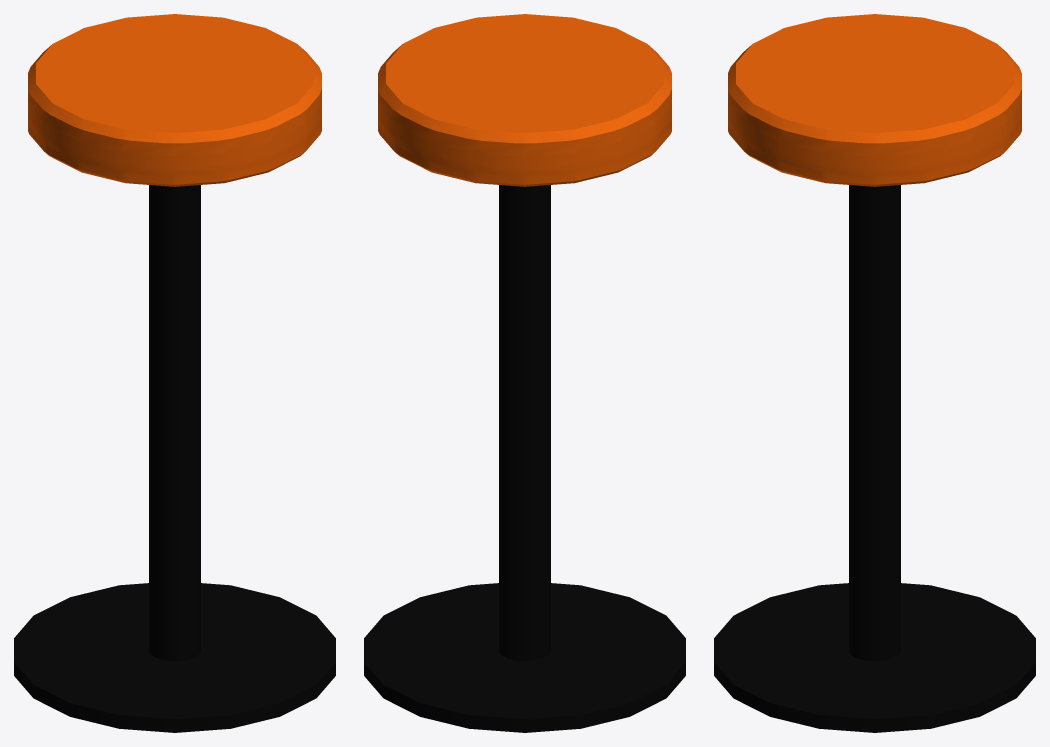
File: stool.obj
3 views of the same model, side by side, from view 1: azimuth 30°, elevation 25°; view 2: azimuth 150°, elevation 25°; view 3: azimuth 270°, elevation 25° (orthographic).
Visible parts, largest first — view 1: Cylinder001, Cylinder002, Cylinder003; view 2: Cylinder001, Cylinder002, Cylinder003; view 3: Cylinder001, Cylinder002, Cylinder003.
Part boxes in pixels (<box>): Cylinder001: <box>28,14,321,186</box>; Cylinder002: <box>14,583,335,732</box>; Cylinder003: <box>149,185,200,661</box>; Cylinder001: <box>378,14,671,186</box>; Cylinder002: <box>364,583,685,732</box>; Cylinder003: <box>499,185,550,661</box>; Cylinder001: <box>728,14,1021,186</box>; Cylinder002: <box>714,583,1035,732</box>; Cylinder003: <box>849,185,900,661</box>.
Size of the model in its own units: 13.26 by 26.44 by 13.06.
